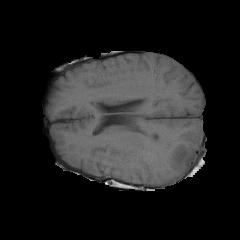glioma: (147, 130, 199, 174)
